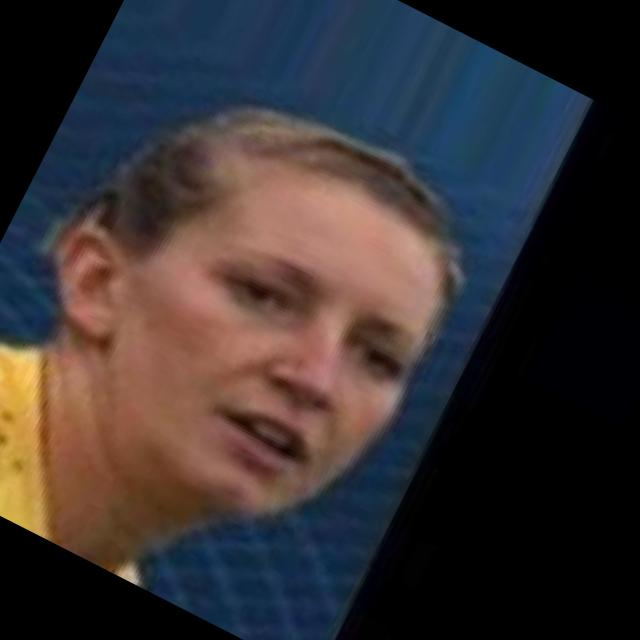bareface: (39, 81, 505, 584)
